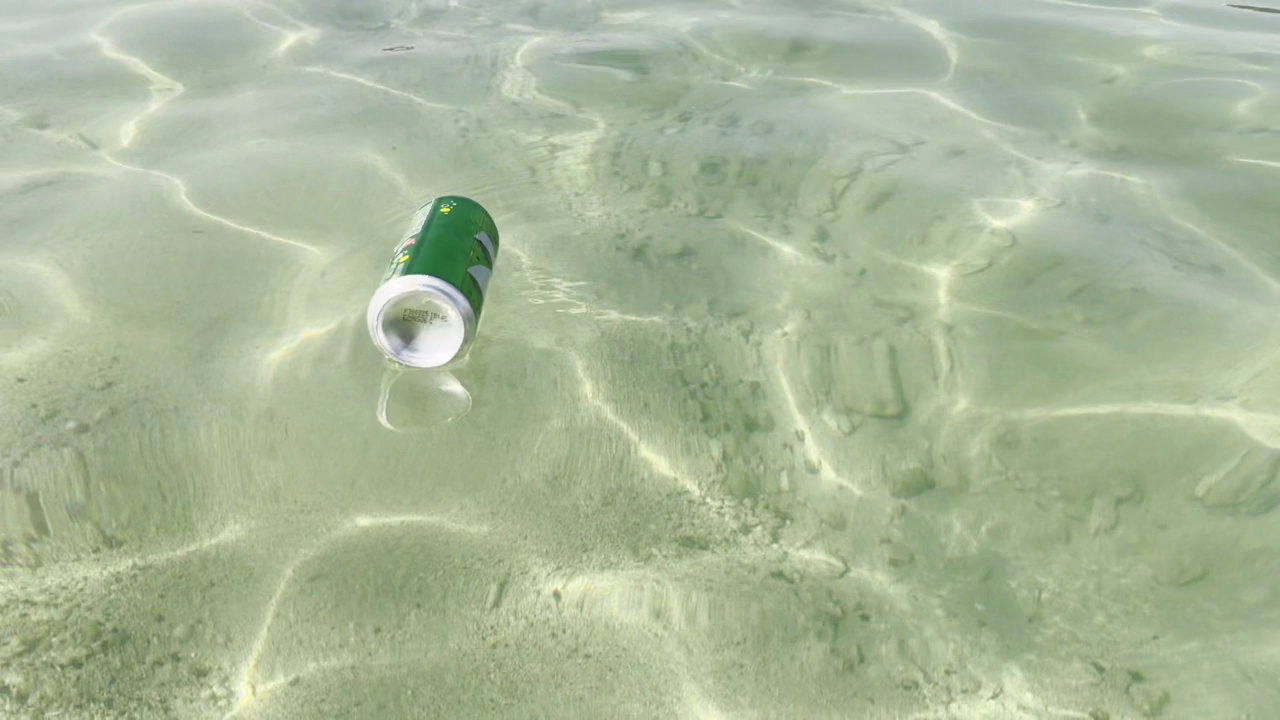debris: (360, 178, 505, 379)
